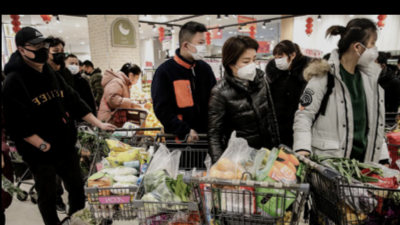with_mask: (231, 53, 256, 81), (354, 38, 377, 66), (22, 39, 47, 64), (185, 36, 206, 60), (47, 45, 65, 63), (274, 52, 290, 70), (64, 60, 78, 75), (128, 74, 139, 84), (82, 67, 90, 76)
